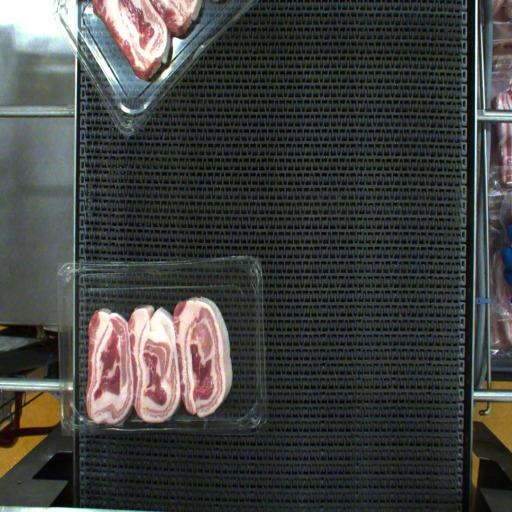packaging-error: (86, 399, 204, 449)
